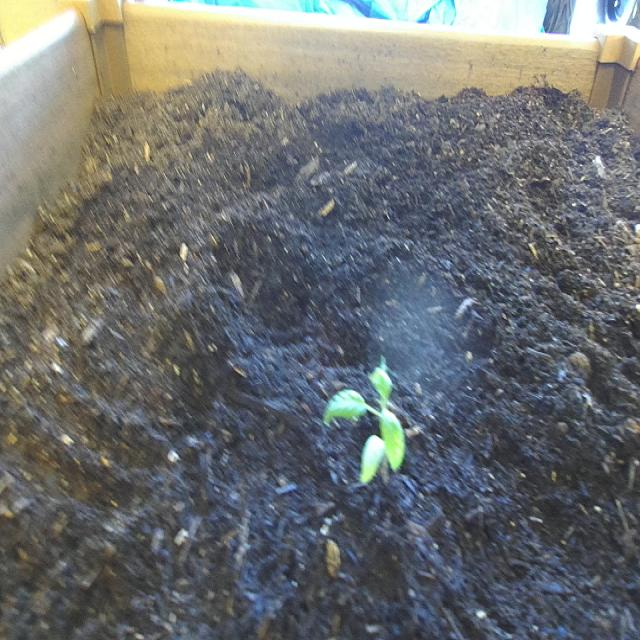Healthy: (315, 353, 423, 502)
